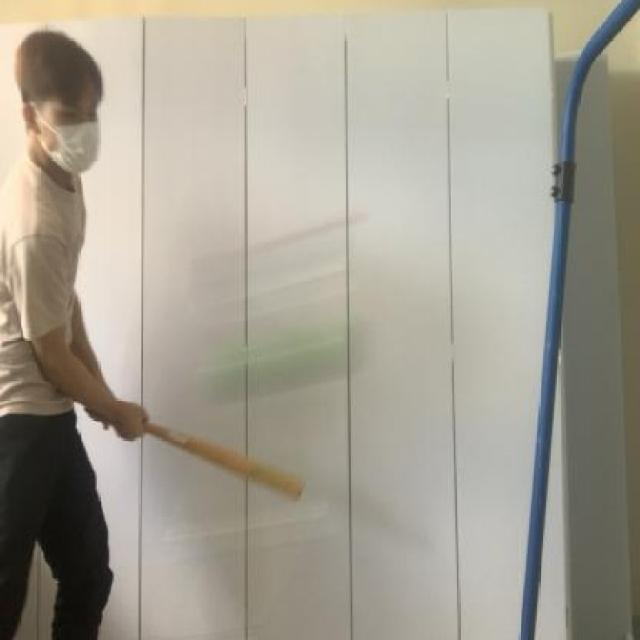baseball: (186, 277, 379, 421)
